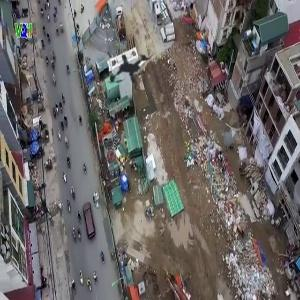drone: (89, 26, 179, 116)
